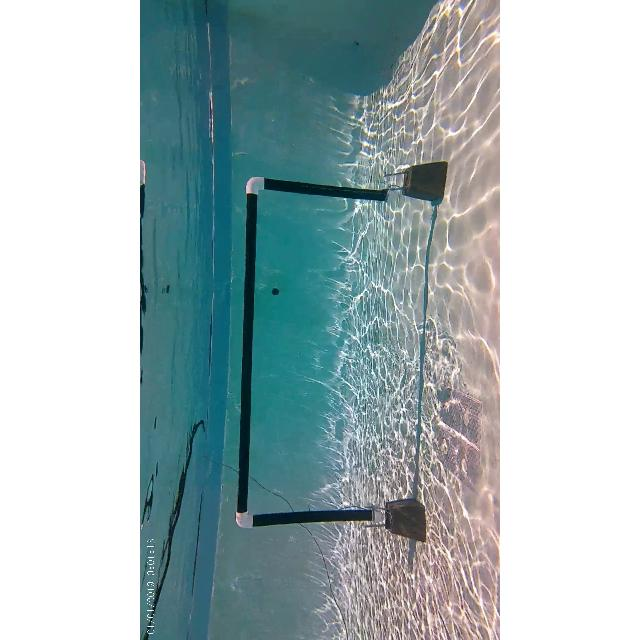prequal gate: (236, 176, 390, 528)
prequal gate leg l: (230, 506, 402, 534)
prequal gate leg r: (244, 172, 398, 206)
